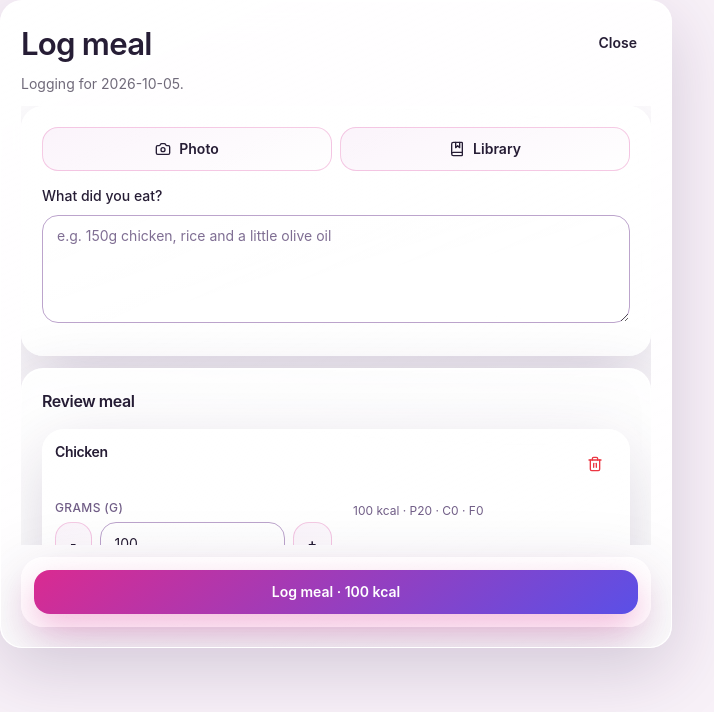
Test case: meal logger recovery and estimate freshness › requires a new estimate after editing text and preserves selected library items
This screenshot has width=714, height=712.
In the text box labelled "What did you eat?": (336, 269) [42,215,630,323], type "Rice"
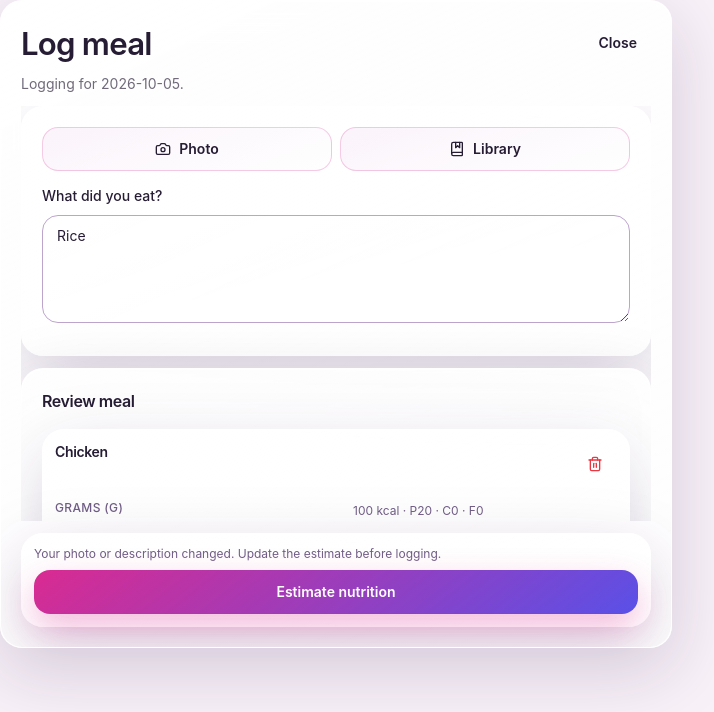
Check: the button "Estimate nutrition" is shown
Click the button "Estimate nutrition": (336, 592) [34,570,638,614]
(page scrolled)
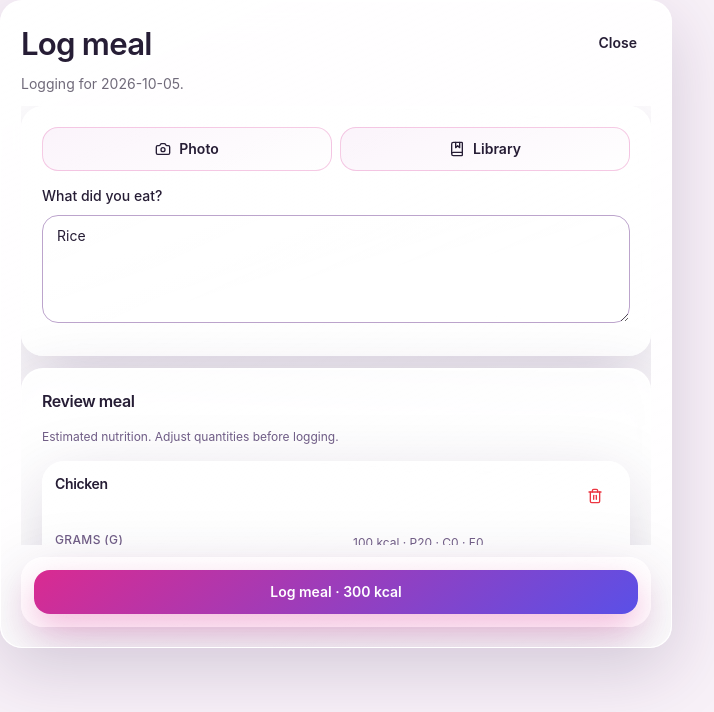
Check: the button "Log meal · 300 kcal" is shown, box [34,570,638,614]
Replace the text in the text box labelled "What did you eat?" with "Rice with oil": (336, 269) [42,215,630,323]
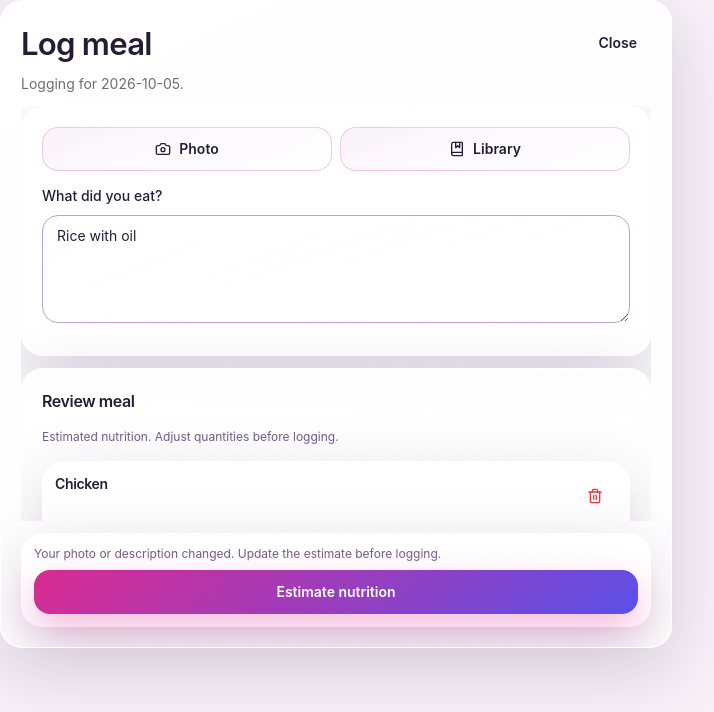
Check: the button "Estimate nutrition" is shown, box [34,570,638,614]
